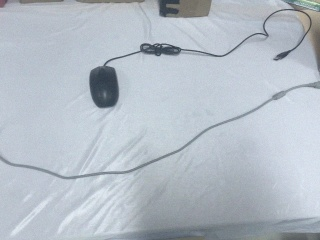box: (157, 1, 214, 20)
mouse: (88, 65, 120, 109)
